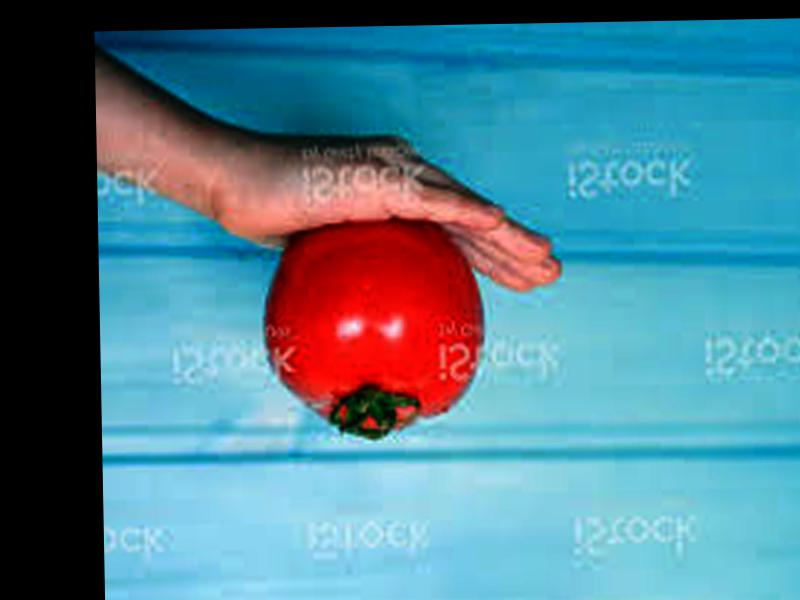Tomato: (267, 217, 486, 437)
